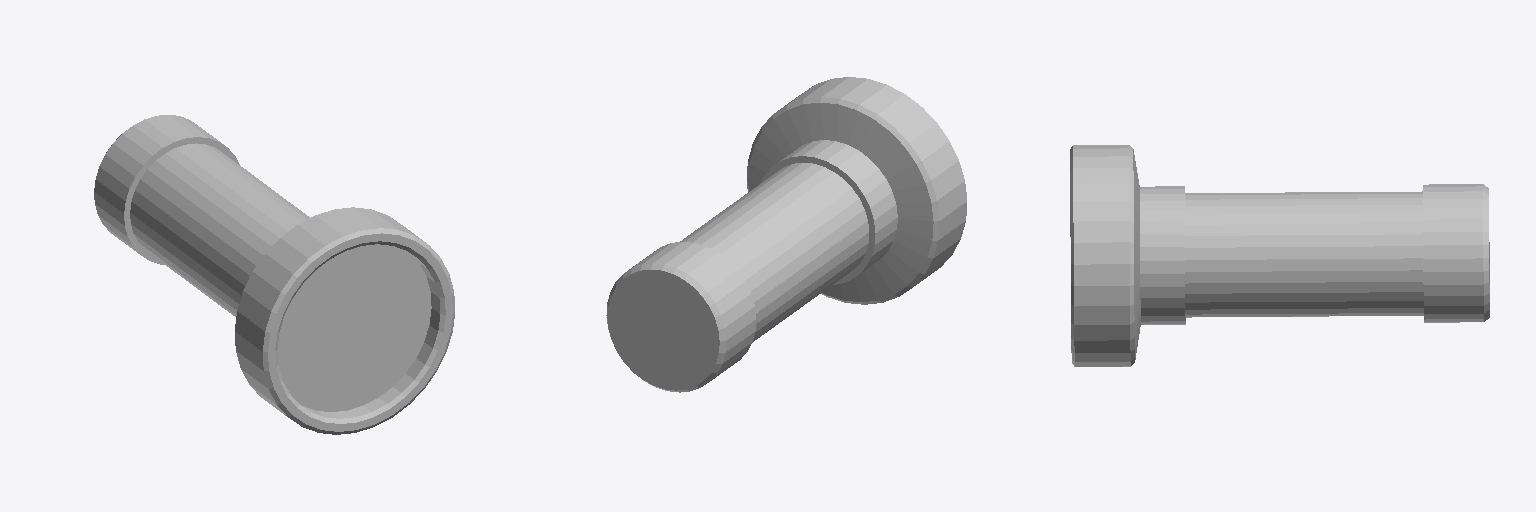
The model's file is connector.obj.
The picture shows the model from 3 angles: view 1: azimuth 30°, elevation 25°; view 2: azimuth 150°, elevation 25°; view 3: azimuth 270°, elevation 25°; orthographic projection.
Visible parts, largest first — view 1: iron, diod; view 2: iron, diod; view 3: iron, diod.
Boxes of the visible parts, x1,y1,x2,y2 form: iron: [94, 115, 454, 434]; diod: [130, 143, 309, 316]; iron: [606, 77, 966, 392]; diod: [680, 163, 868, 342]; iron: [1070, 145, 1489, 366]; diod: [1185, 191, 1423, 317].
Bounding box in the file's own units: 108 × 108 × 203.